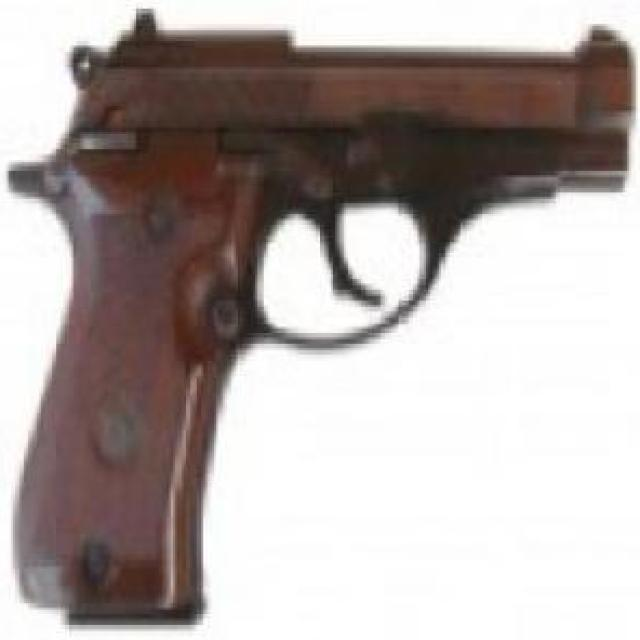pistol: (8, 19, 636, 620)
